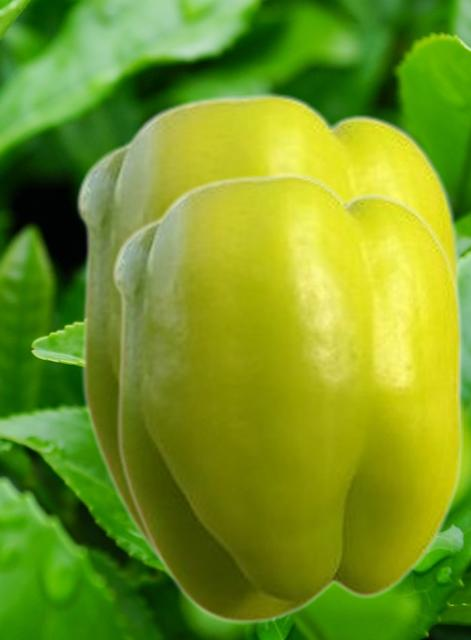bell_pepper: (75, 91, 459, 559), (111, 171, 462, 623)
